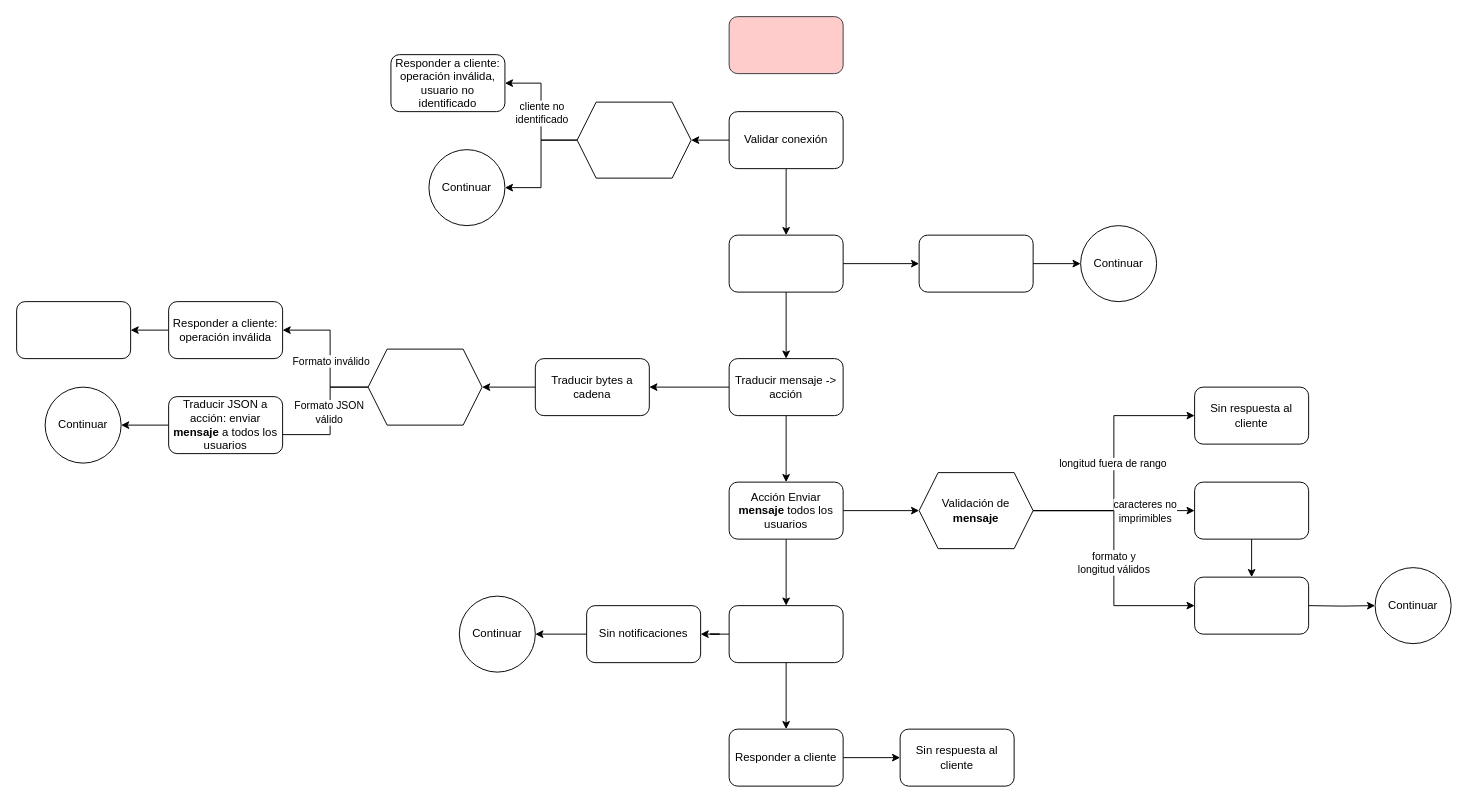
Image size: 1468x803. Some labels were removed from this diagram. The centre of each missing label's shape, as x and y in pixels:
"Convertirlos a imprimibles" belongs at point 1251,510.
"Desconectar al cliente" belongs at point 73,330.
"Enviar mensaje del cliente a todos los usuarios en la base de datos" belongs at point 1251,605.
"Extraer bytes del mensaje" belongs at point 975,263.
"Notificar a usuarios" belongs at point 785,634.
"Recibir mensaje por red" belongs at point 785,263.
"Servidor: Enviar mensaje a todos los usuarios" belongs at point 785,45.
"Validación de cadena" belongs at point 424,386.
"Validación de conexión" belongs at point 633,139.
